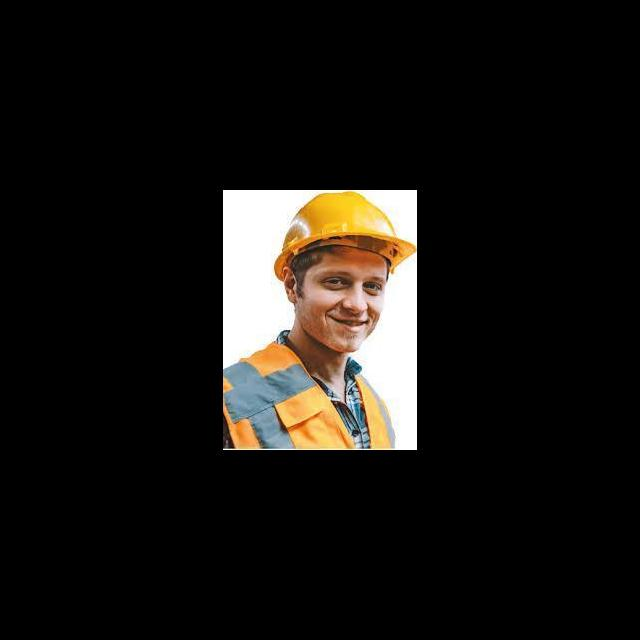Hardhat: (274, 190, 416, 283)
NO-Mask: (288, 289, 381, 352)
Person: (223, 190, 397, 448)
Safety Vest: (223, 339, 398, 448)
